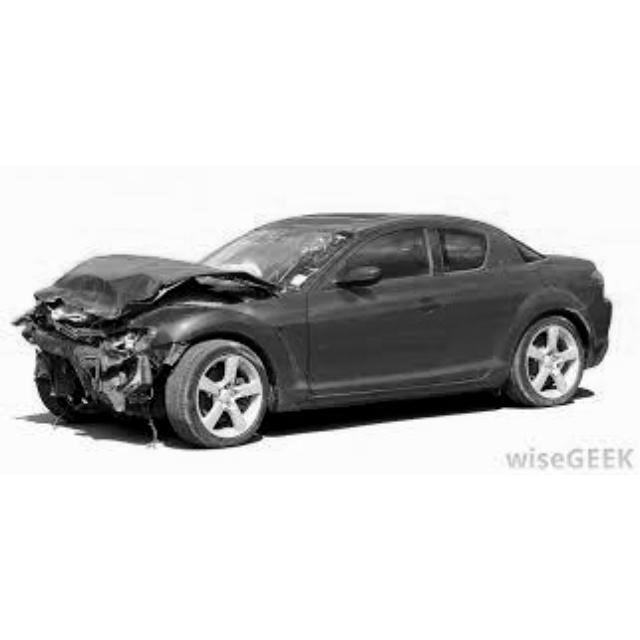bonnet-dent: (42, 255, 230, 316)
front-bumper-dent: (42, 343, 135, 410)
